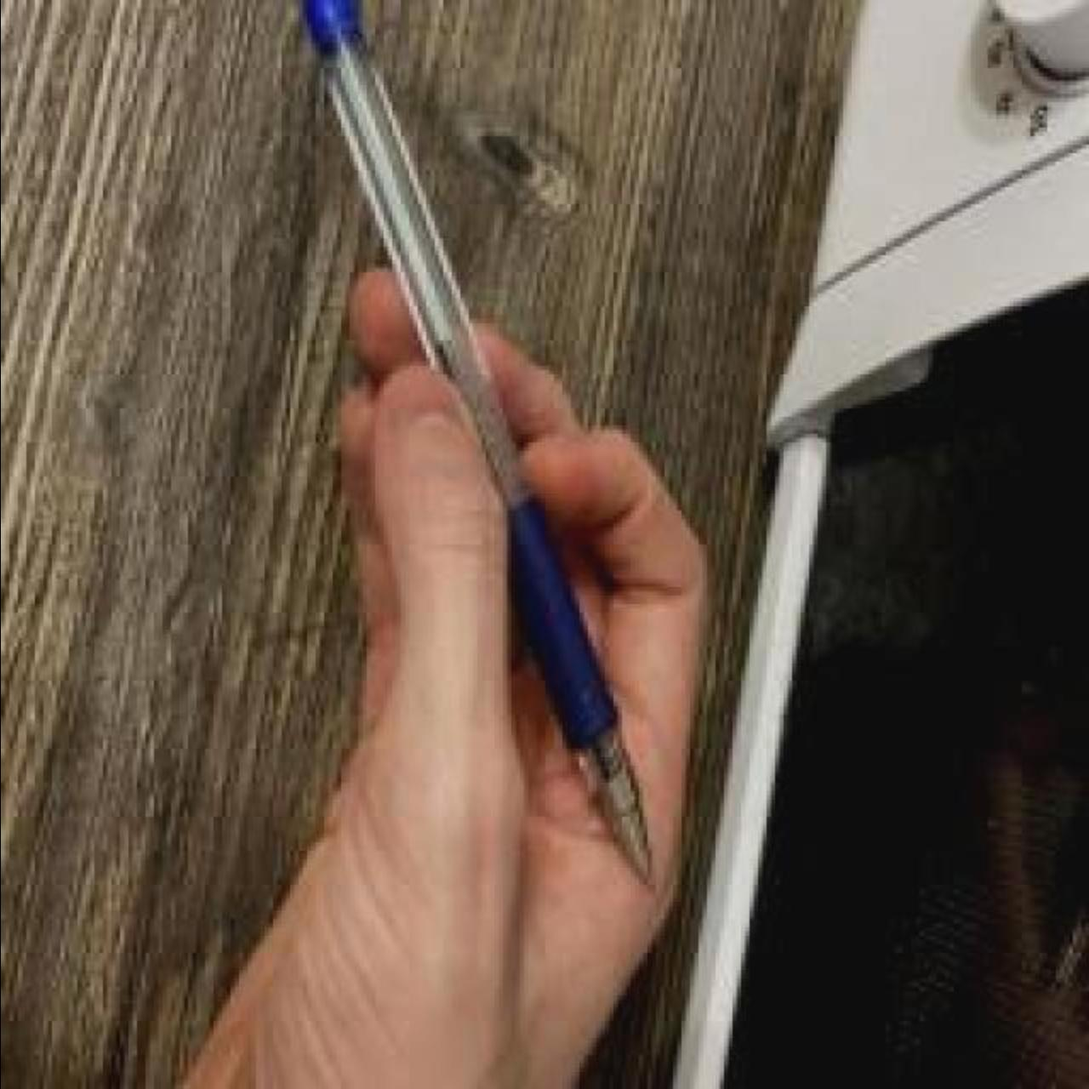pen: (298, 0, 664, 893)
